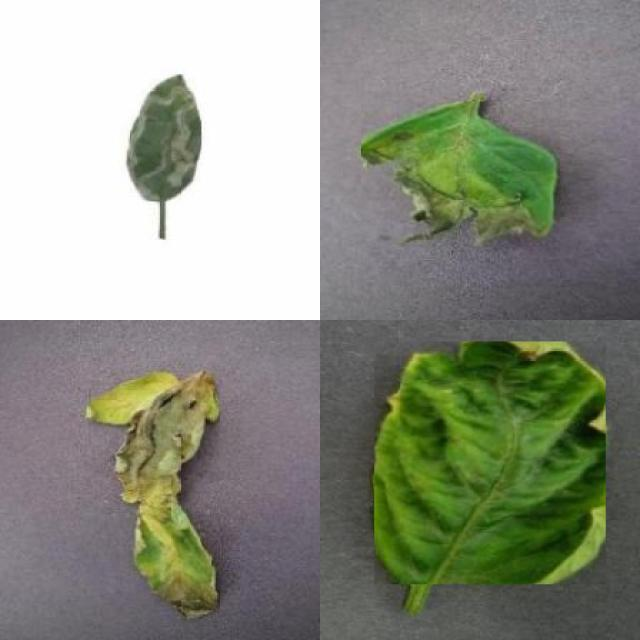Late Blight: (83, 368, 220, 622), (360, 102, 560, 248)
Leaf Miner: (128, 75, 202, 202)
Yellow Leaf Curl Virus: (375, 342, 606, 585)
